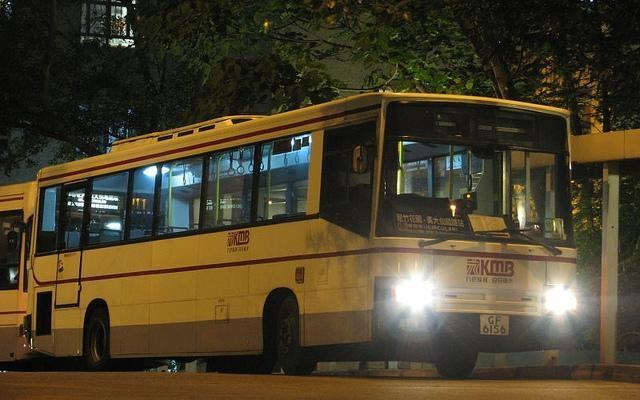bus: (31, 96, 584, 358), (0, 184, 40, 364)
